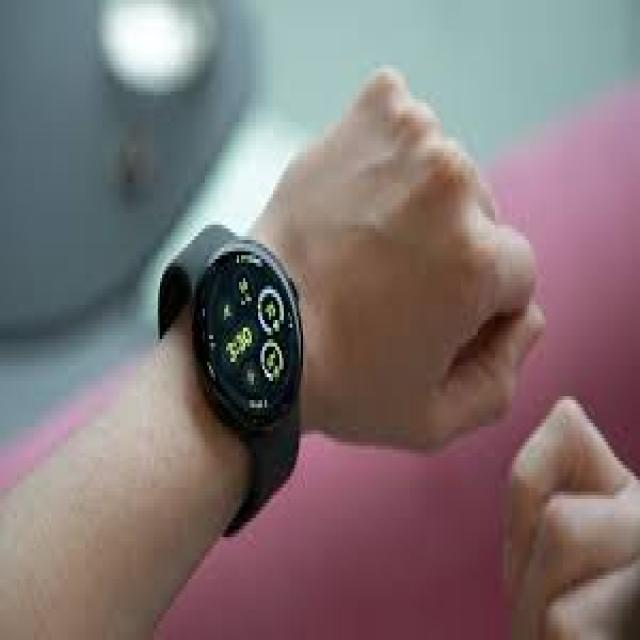objects: (158, 225, 303, 538)
